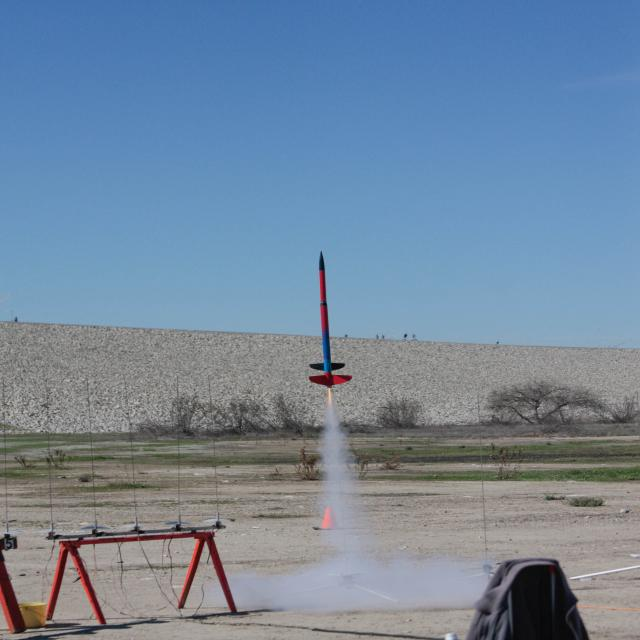Rocket: (308, 250, 354, 388)
